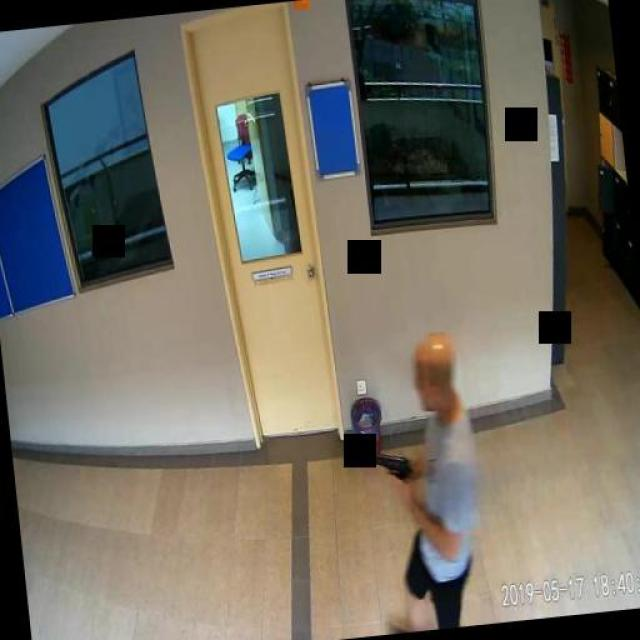gun: (368, 448, 412, 498)
